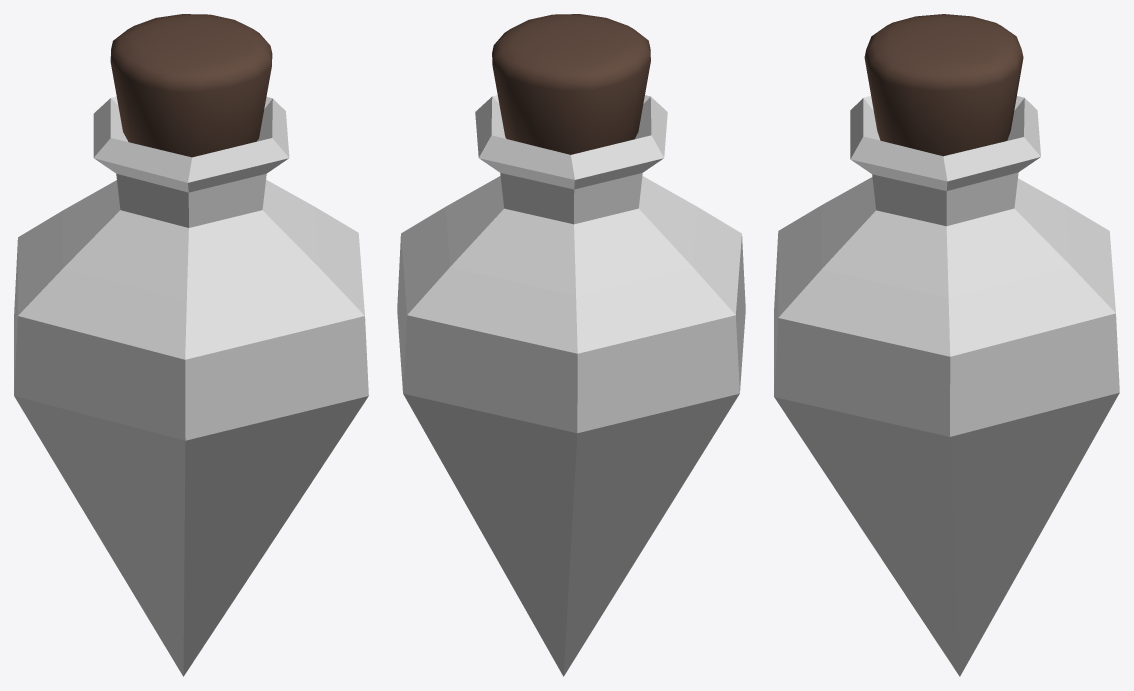
Rendered from potion10_empty.glb.
The picture shows the model from 3 angles, left to right: view 1: azimuth 30°, elevation 25°; view 2: azimuth 150°, elevation 25°; view 3: azimuth 270°, elevation 25°; orthographic projection.
Parts seen in each view (by area): view 1: Potion10_Empty; view 2: Potion10_Empty; view 3: Potion10_Empty.
Boxes of the visible parts, x1,y1,x2,y2 form: Potion10_Empty: [14, 14, 368, 676]; Potion10_Empty: [397, 14, 745, 676]; Potion10_Empty: [774, 14, 1119, 676].
Size of the model in its own units: 0.4379 by 0.7742 by 0.3792.
